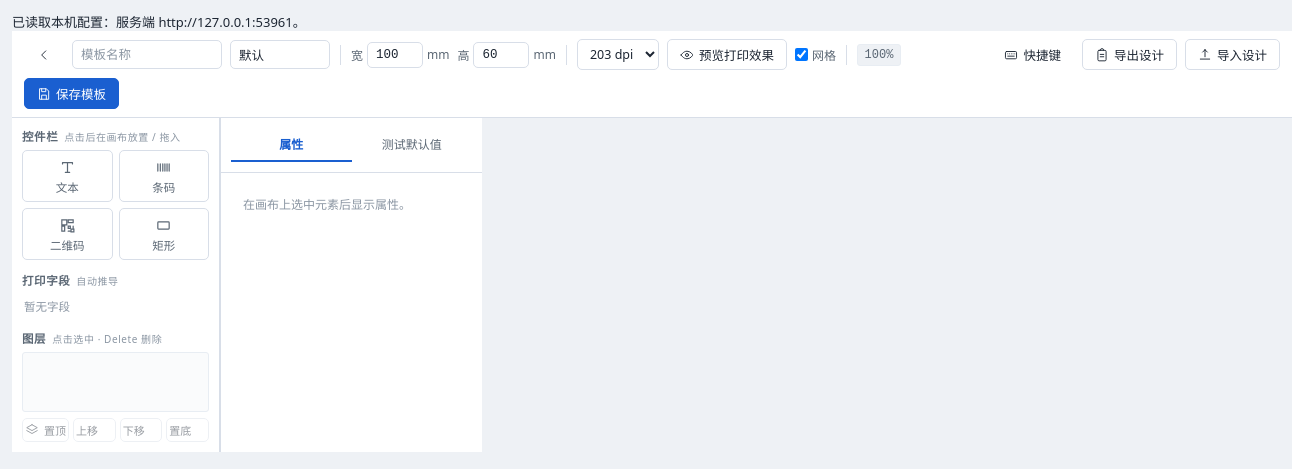
Scenario: 页级保存链路（迭代 92 F-03） › 保存失败提示：呈现中文原因，停留设计器不回工作台
Expected: the number field showing "100" is shown, [367, 42, 423, 68]
Type "新模板" into the field with placeholder "模板名称" at [147, 54], box [72, 40, 222, 69]
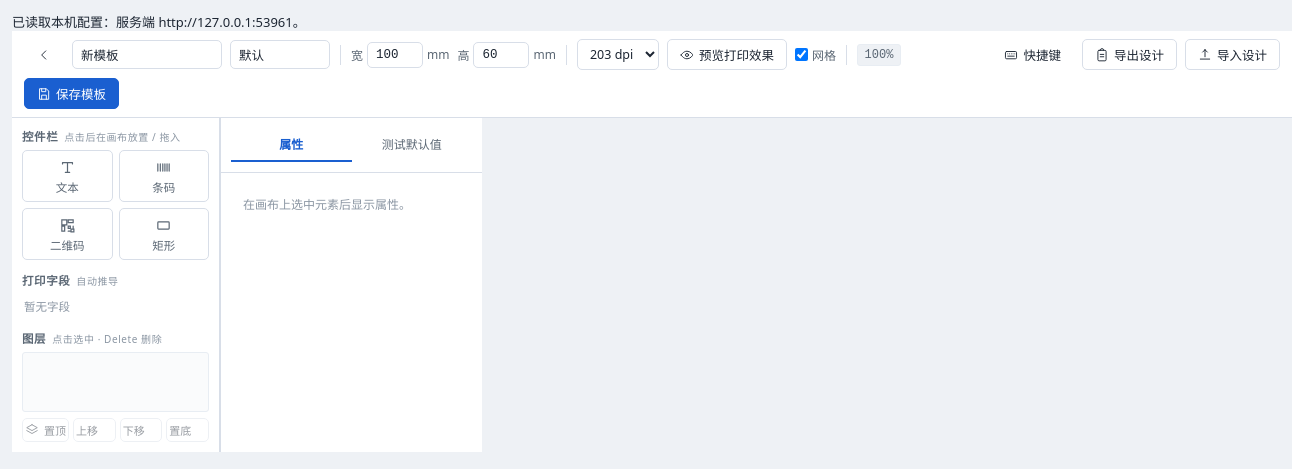
Click the button "保存模板" at [72, 94], box [24, 78, 119, 109]
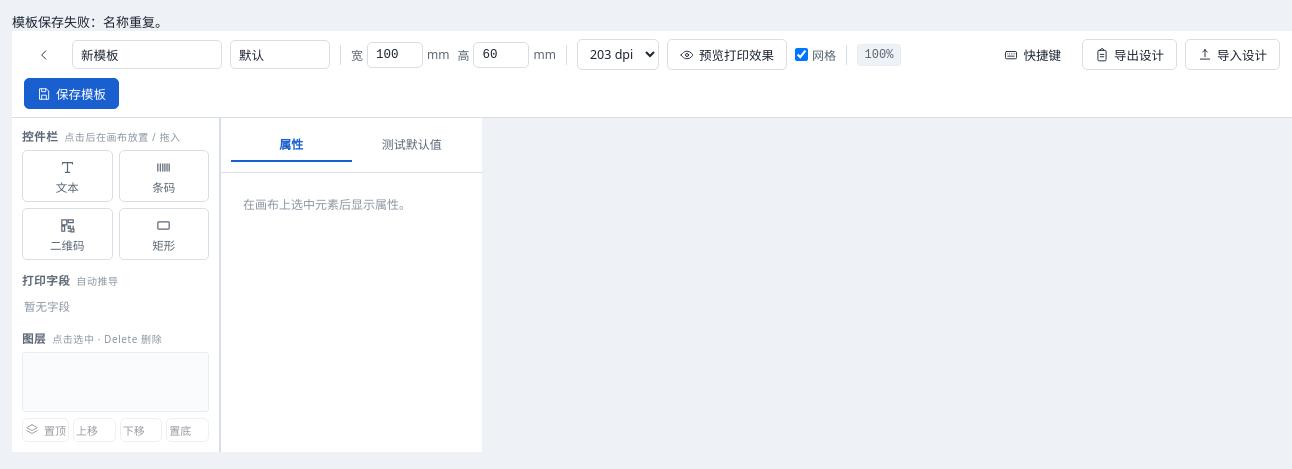
Expected: the text with test id "status-msg" shows "模板保存失败：名称重复", [12, 13, 168, 31]
